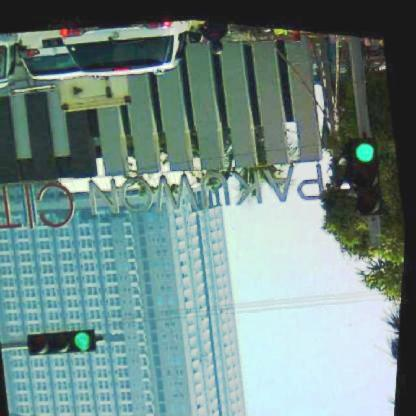Traffic Light -Green-: (346, 125, 388, 209), (30, 321, 102, 359)
